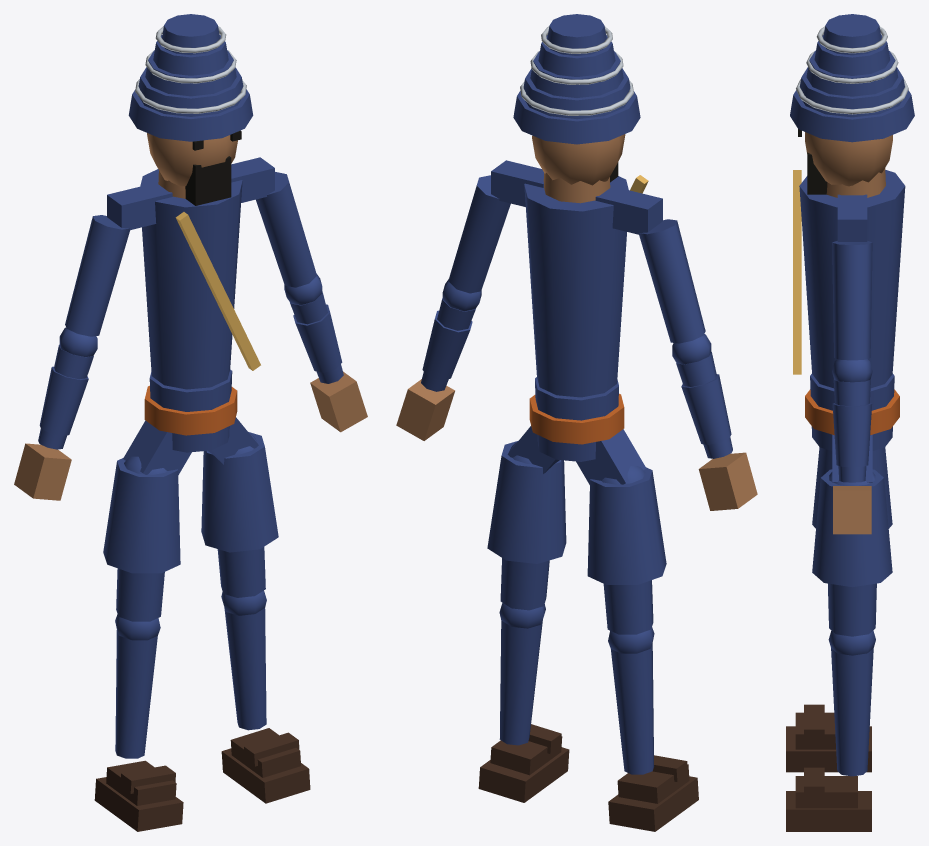
Rendered from nihang-body.glb.
3 views of the same model, side by side, from view 1: azimuth 30°, elevation 25°; view 2: azimuth 150°, elevation 25°; view 3: azimuth 270°, elevation 25° (orthographic). The views are drawn at different scales.
Parts seen in each view (by area): view 1: FittedTorso, SplitGarment (×2), TurbanWrap (×5), UpperArm-1, Shin-1, Shin1, UpperArm1, ShoulderLink (×2), Waist, Face, Hand-1, Sash (+20 smaller); view 2: FittedTorso, SplitGarment (×2), TurbanWrap (×5), UpperArm-1, Shin-1, Shin1, UpperArm1, ShoulderLink (×2), Face, Waist, Hand-1, Sash (+17 smaller); view 3: FittedTorso, TurbanWrap (×5), SplitGarment (×2), UpperArm1, Shin1, Face, Sandal1, Thigh1, Bracer1, TurbanRing (×3), Hand1, Waist (+14 smaller).
Part boxes in pixels (box(x1,y1,x2,y2)): FittedTorso: box(140, 169, 242, 389); SplitGarment (×2): box(103, 432, 278, 573); TurbanWrap (×5): box(128, 14, 253, 141); UpperArm-1: box(65, 215, 129, 336); Shin-1: box(115, 630, 157, 758); Shin1: box(224, 607, 266, 730); UpperArm1: box(256, 172, 316, 287); ShoulderLink (×2): box(107, 157, 274, 230); Waist: box(149, 369, 232, 452); Face: box(147, 133, 237, 186); Hand-1: box(14, 443, 71, 500); Sash: box(144, 385, 237, 435); FittedTorso: box(524, 176, 628, 397); SplitGarment (×2): box(487, 440, 666, 584); TurbanWrap (×5): box(513, 14, 640, 144); UpperArm-1: box(639, 219, 705, 343); Shin-1: box(611, 643, 654, 774); Shin1: box(499, 620, 542, 745); UpperArm1: box(448, 175, 510, 293); ShoulderLink (×2): box(491, 160, 662, 234); Face: box(532, 134, 625, 185); Waist: box(535, 377, 618, 461); Hand-1: box(698, 452, 757, 510); Sash: box(529, 393, 624, 444); FittedTorso: box(799, 170, 905, 388); TurbanWrap (×5): box(790, 14, 914, 142); SplitGarment (×2): box(812, 447, 892, 587); UpperArm1: box(832, 241, 872, 360); Shin1: box(831, 648, 873, 776); Face: box(805, 132, 892, 186); Sandal1: box(786, 791, 871, 831); Thigh1: box(828, 583, 876, 636); Bracer1: box(832, 403, 872, 467); TurbanRing (×3): box(796, 26, 908, 114); Hand1: box(833, 486, 871, 534); Waist: box(810, 373, 894, 450).
Size of the model in its own units: 0.9158 by 2 by 0.3041.
